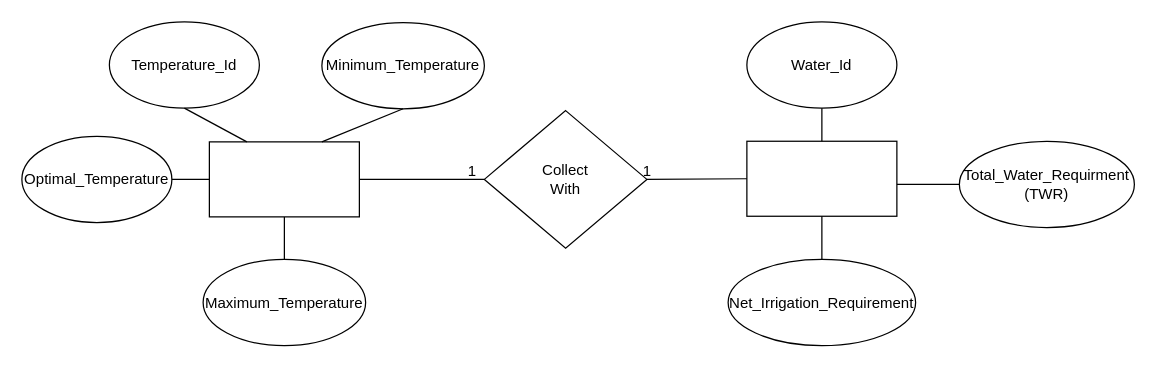
Image size: 1156x368. Some labels were removed from this diagram. The shapes that lost their labels are listed below. From the top down, each one's centre as x and y in pixels, then its label:
At pixel 283 179: "Temperature of Crops".
At pixel 821 178: "Amount Water of Crops".
